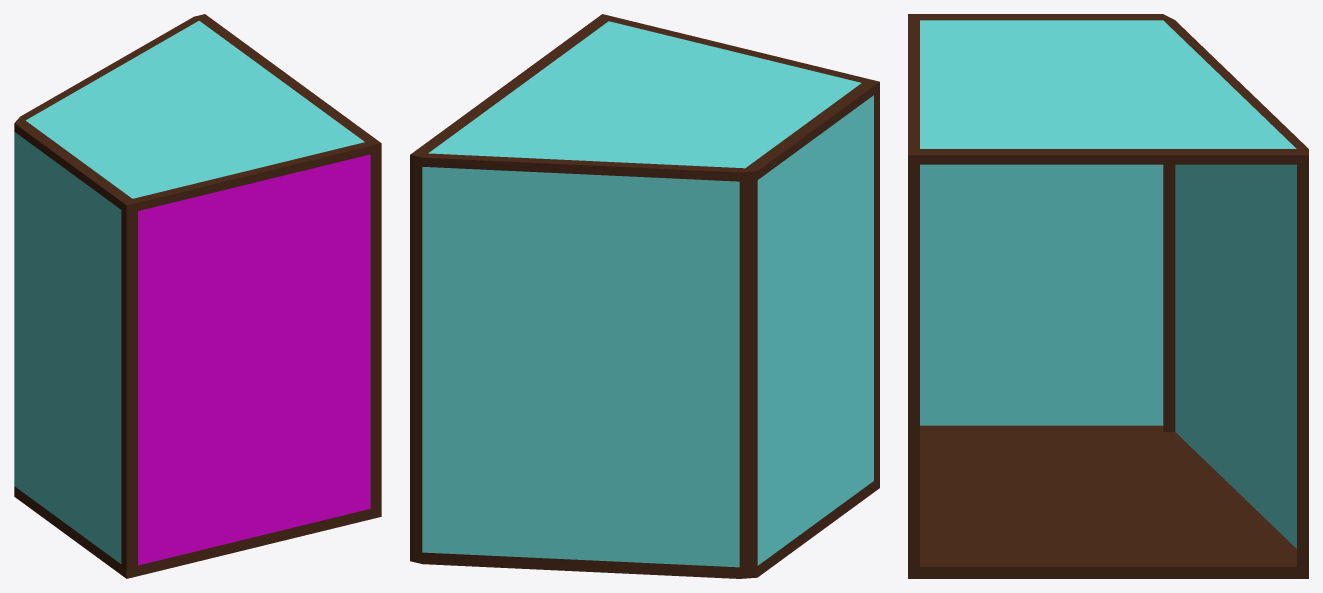
The model's file is TerrariumLeft.fbx.
The picture shows the model from 3 angles, left to right: view 1: azimuth 30°, elevation 25°; view 2: azimuth 150°, elevation 25°; view 3: azimuth 270°, elevation 25°; orthographic projection. The views are drawn at different scales.
Visible parts, largest first — view 1: Terrarium left; view 2: Terrarium left; view 3: Terrarium left.
Part boxes in pixels (x1,y1,x2,y2): Terrarium left: (14, 14, 381, 578); Terrarium left: (410, 14, 879, 578); Terrarium left: (908, 14, 1308, 578).
Size of the model in its own units: 250 by 350 by 300.
